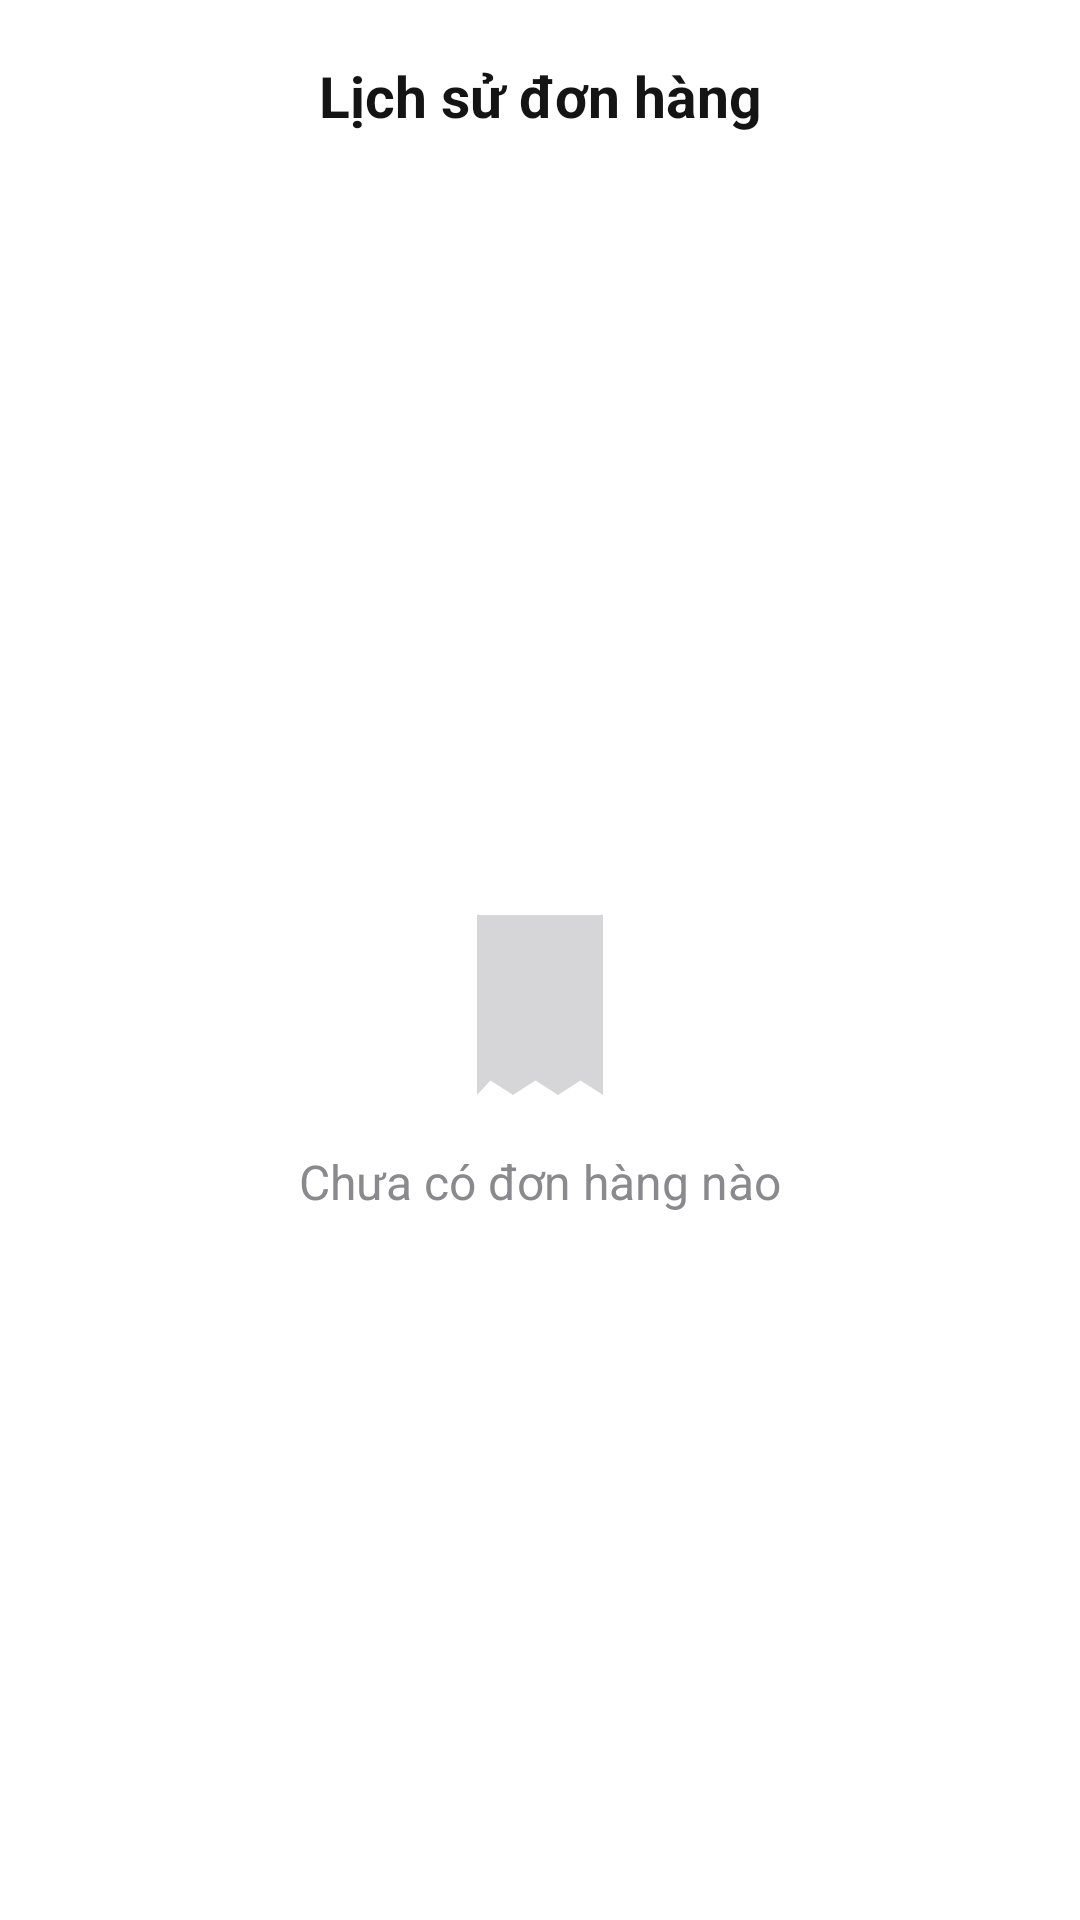

Named icons in this screenshot (1080x1920) and their bounding boxes, (x1, y1, x2, y2):
order: (477, 915, 603, 1095)
